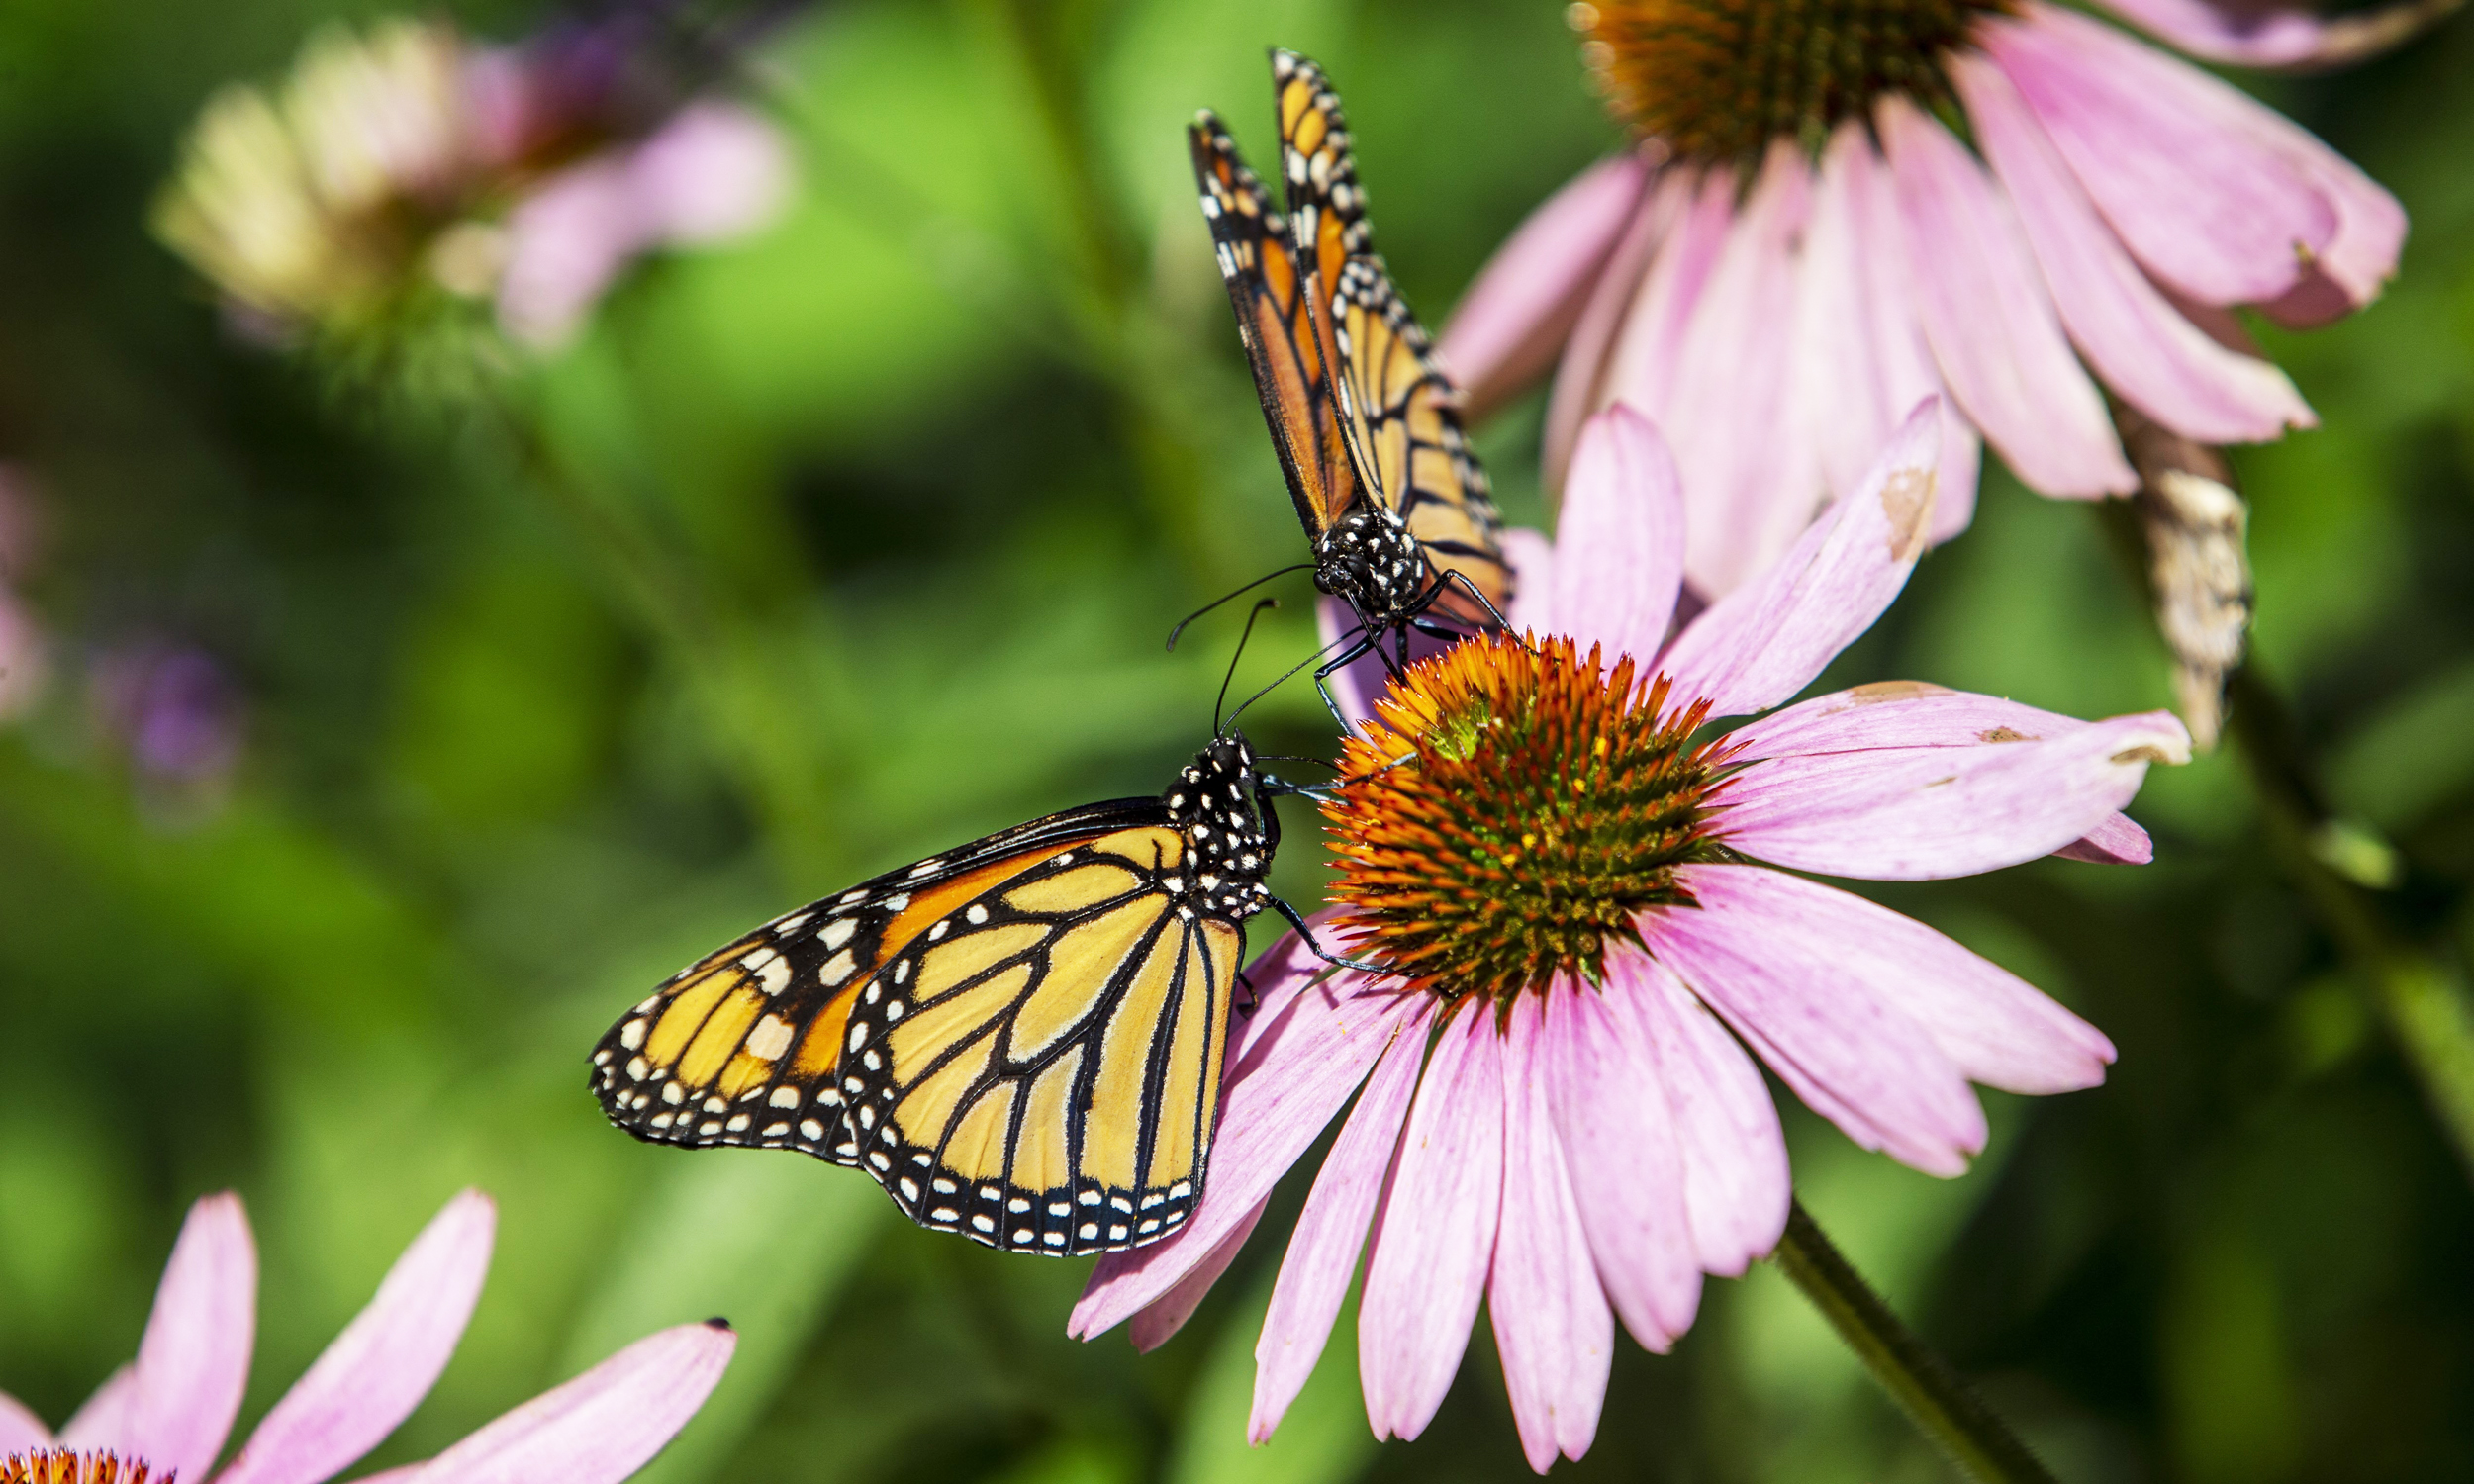Butterfly: (604, 585, 1285, 1253), (1180, 23, 1523, 691)
